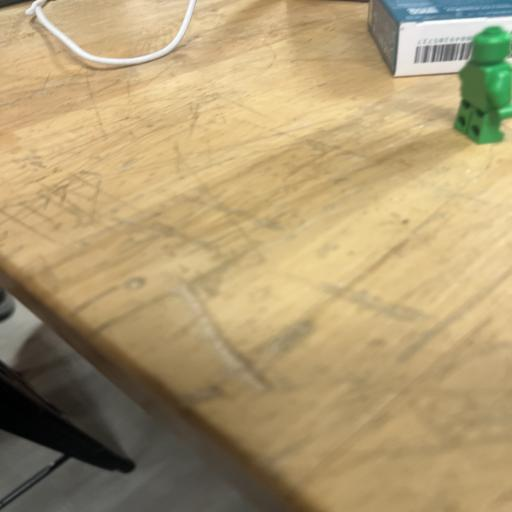green-lego-minifigure-detector: (454, 26, 512, 144)
